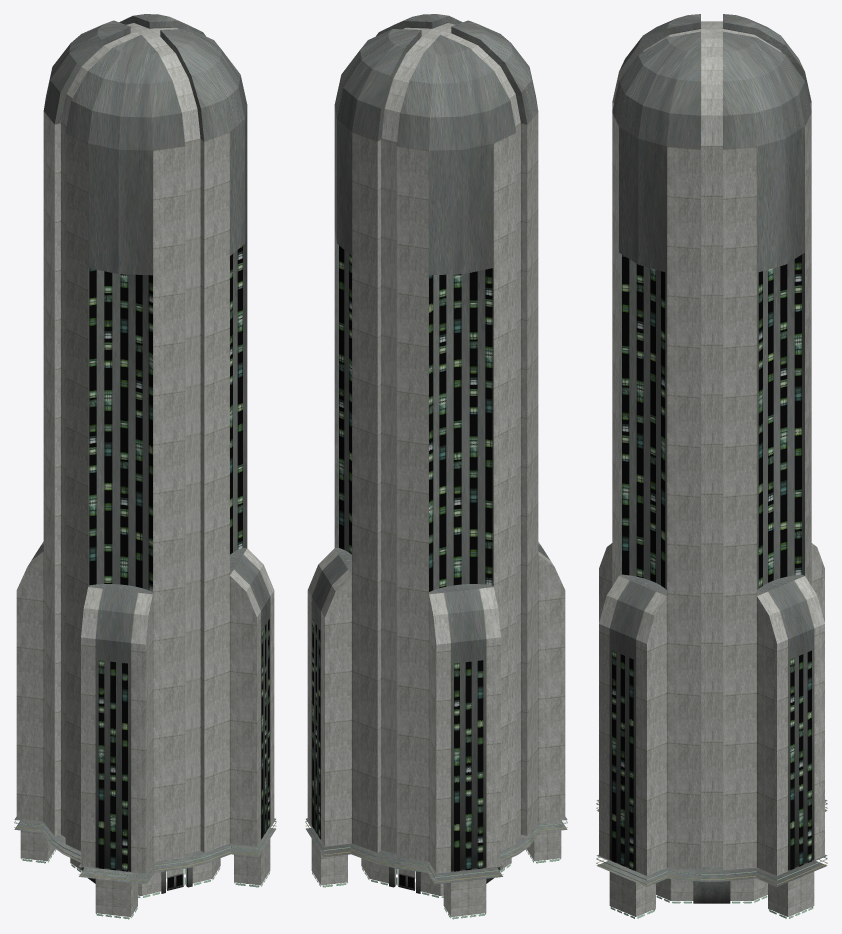
File: thm_corl_skyskraper_s05_l1.fbx
3 renders of one model, left to right at view 1: azimuth 30°, elevation 25°; view 2: azimuth 150°, elevation 25°; view 3: azimuth 270°, elevation 25°, orthographic.
Parts seen in each view (by area): view 1: mesh_node; view 2: mesh_node; view 3: mesh_node.
Boxes of the visible parts, box(x1,y1,x2,y2) form: mesh_node: box(14, 14, 276, 919); mesh_node: box(305, 14, 567, 919); mesh_node: box(596, 14, 827, 918).
Bounding box in the file's own units: 37.51 × 152 × 37.51.
